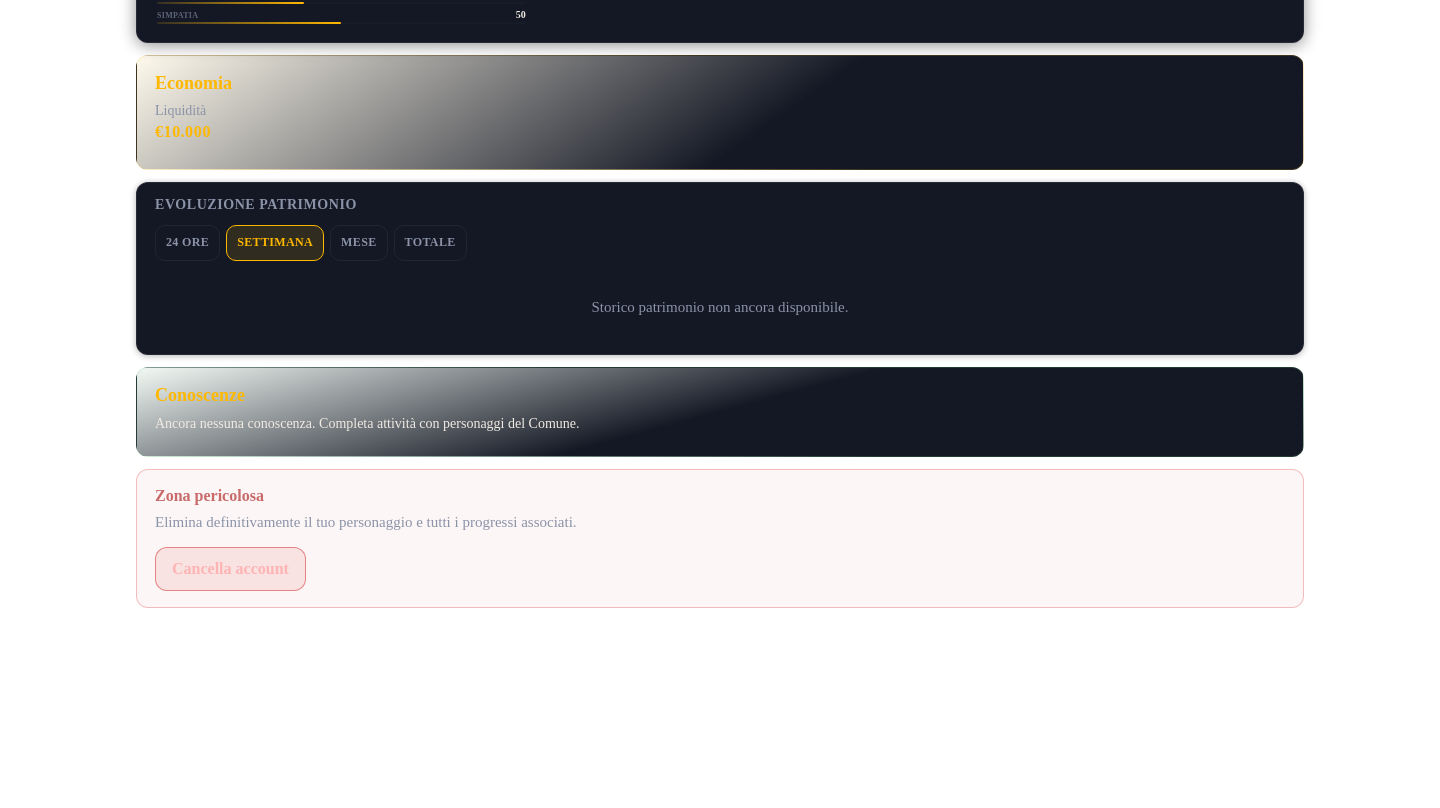
it: ProfiloPage delete account confirmation › does not delete when closing the dialog from the backdrop
The width and height of the screenshot is (1440, 808).
(page scrolled)
Click the button "Cancella account".
click(230, 569)  # box top-left (155, 547), bottom-right (306, 591)
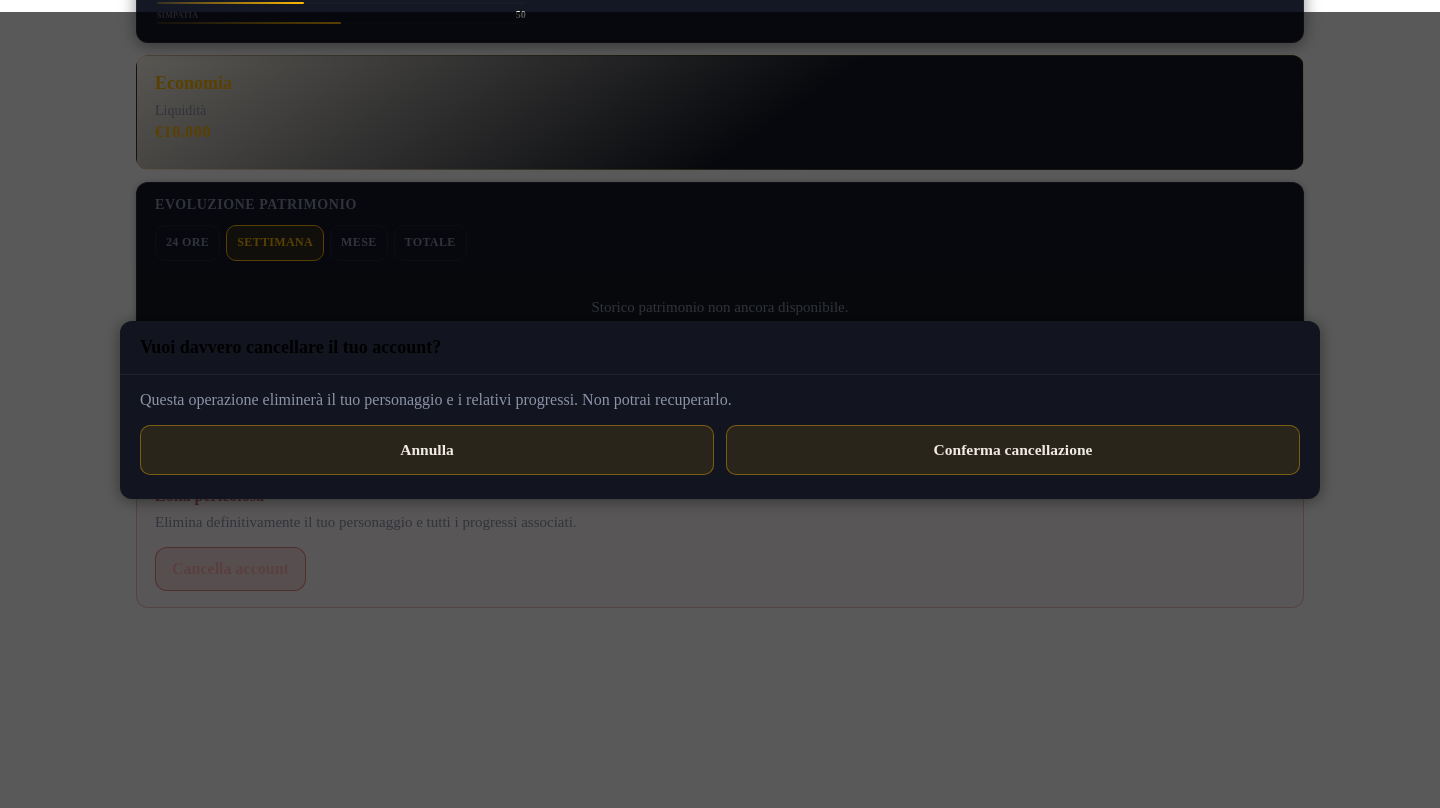
Click the button "Conferma cancellazione".
click(1013, 450)  # box top-left (726, 424), bottom-right (1300, 475)
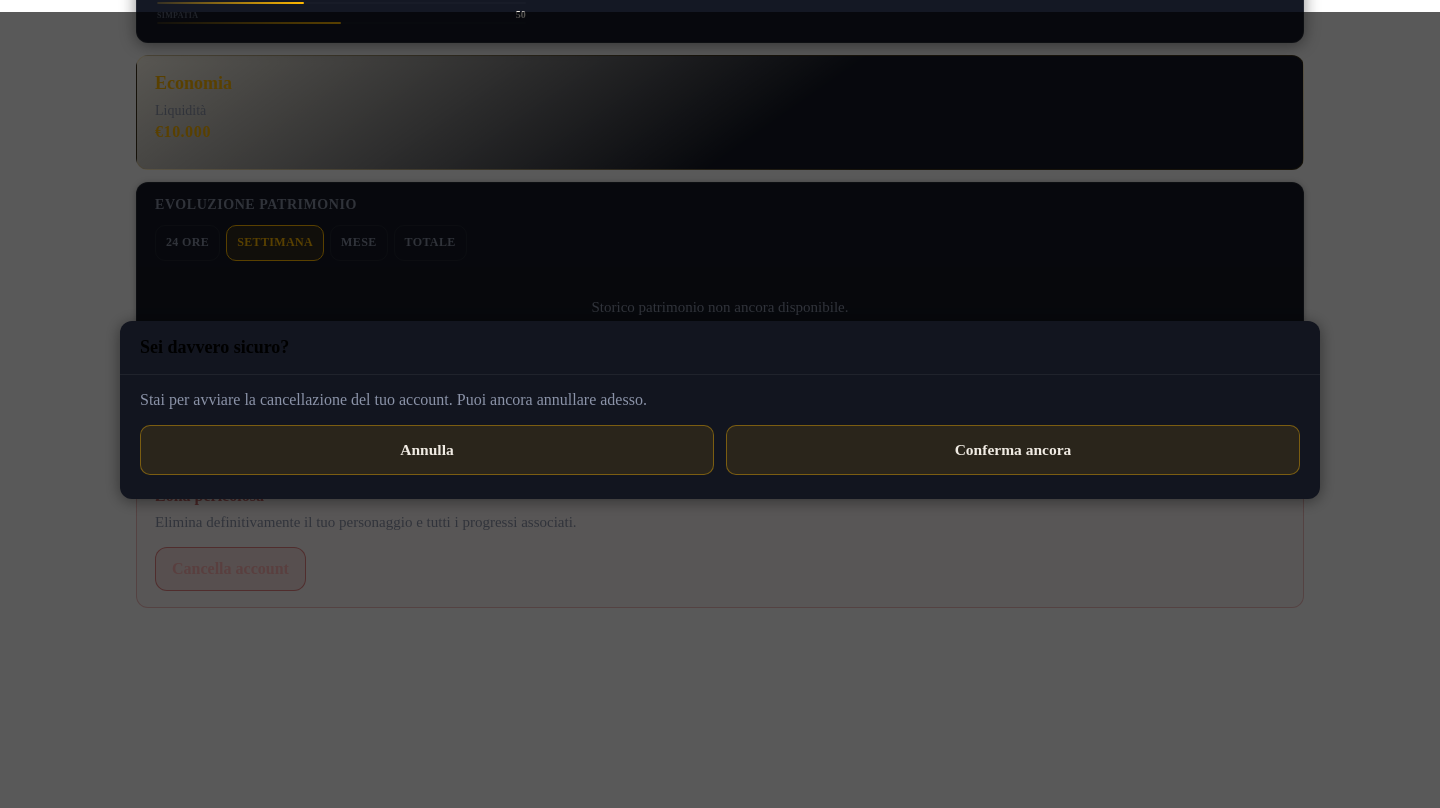
Click the element with class "manualModalBackdrop".
click(86, 410)  # box top-left (0, 12), bottom-right (1439, 807)
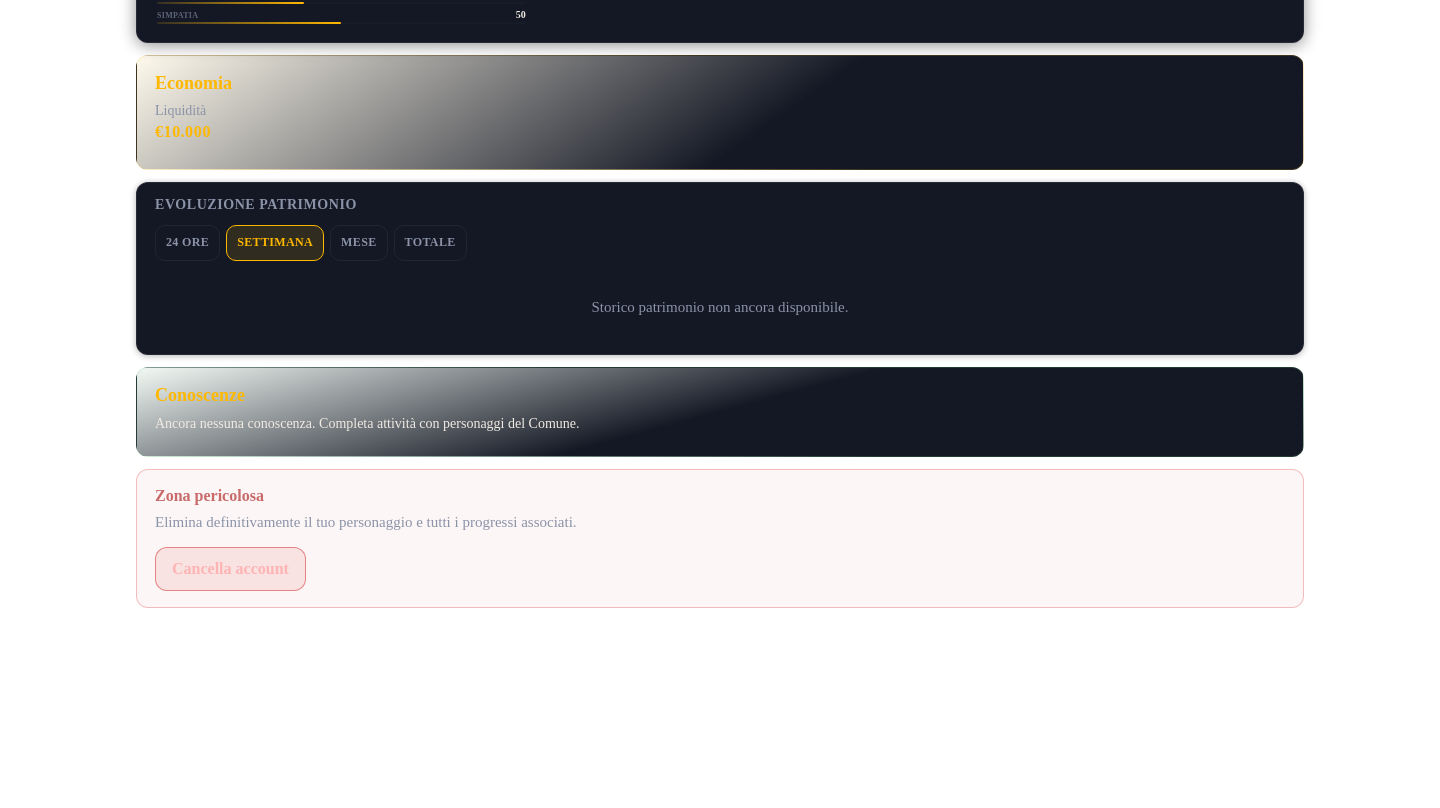
Expected: the dialog is gone
